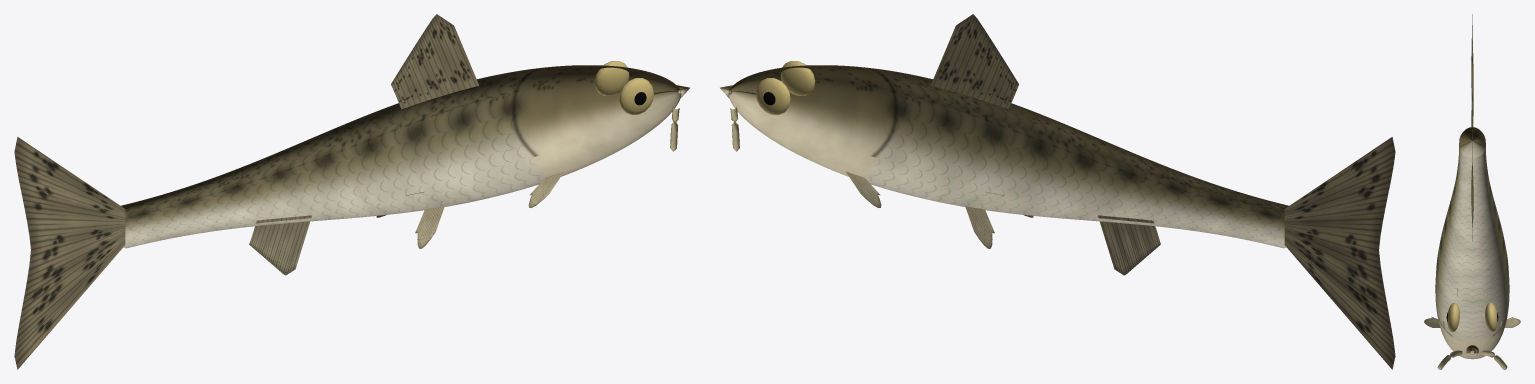
The model's file is fish_gudgeon.gltf.
3 renders of one model, left to right at view 1: azimuth 30°, elevation 25°; view 2: azimuth 150°, elevation 25°; view 3: azimuth 270°, elevation 25°, orthographic. The views are drawn at different scales.
Visible parts, largest first — view 1: fish_gudgeon; view 2: fish_gudgeon; view 3: fish_gudgeon.
Boxes of the visible parts, x1,y1,x2,y2 form: fish_gudgeon: (14, 14, 689, 369); fish_gudgeon: (720, 14, 1395, 369); fish_gudgeon: (1424, 14, 1520, 369).
Size of the model in its own units: 0.1293 by 0.0464 by 0.0209.
7 materials, 4 textured.
